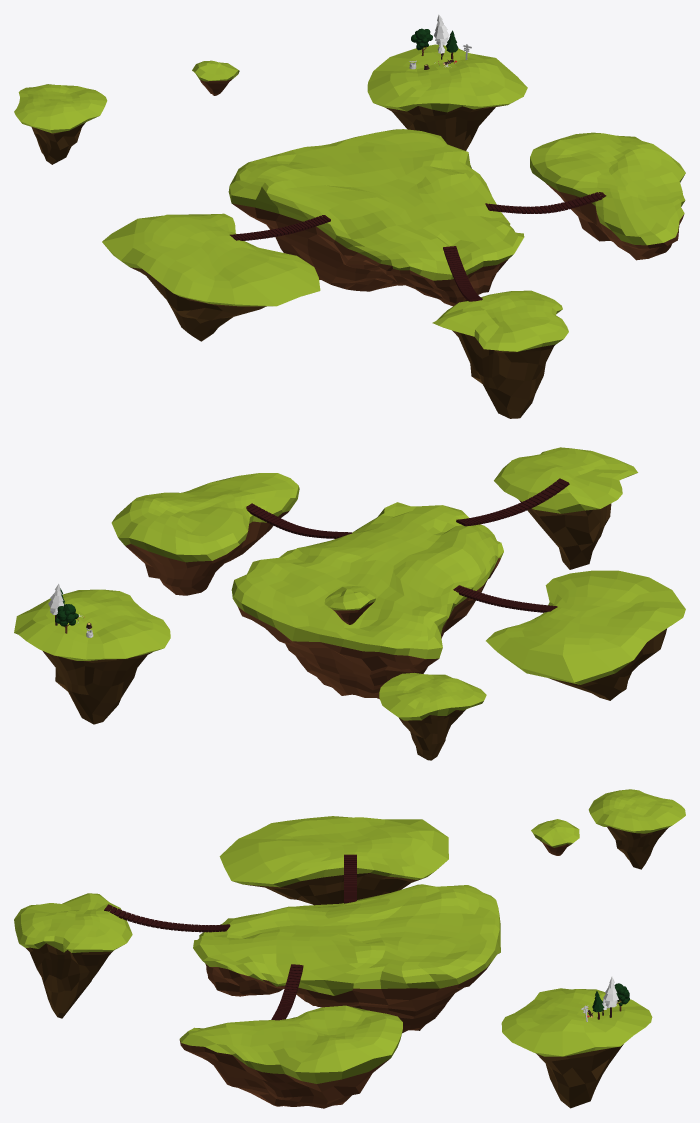
The model's file is reemaIsland.FBX.
3 renders of one model, top to bottom at view 1: azimuth 30°, elevation 25°; view 2: azimuth 150°, elevation 25°; view 3: azimuth 270°, elevation 25°, orthographic. The views are drawn at different scales.
Parts seen in each view (by area): view 1: Island2, Island1, Island3, Box014, Island4, MiniIsland1, Line002, MiniIsland2; view 2: Island2, Island1, Island3, Box014, Island4, MiniIsland1, Line002, MiniIsland2; view 3: Island2, Island3, Island1, Box014, Island4, MiniIsland1, Line002, MiniIsland2.
Part boxes in pixels (x1=…): Island2: x1=228, y1=129, x2=524, y2=306; Island1: x1=102, y1=213, x2=320, y2=341; Island3: x1=530, y1=132, x2=685, y2=260; Box014: x1=367, y1=44, x2=527, y2=150; Island4: x1=432, y1=290, x2=568, y2=418; MiniIsland1: x1=14, y1=84, x2=107, y2=164; Line002: x1=230, y1=192, x2=606, y2=301; MiniIsland2: x1=192, y1=60, x2=239, y2=95; Island2: x1=231, y1=502, x2=503, y2=699; Island1: x1=486, y1=570, x2=685, y2=700; Island3: x1=111, y1=473, x2=299, y2=595; Box014: x1=14, y1=589, x2=170, y2=724; Island4: x1=494, y1=447, x2=637, y2=569; MiniIsland1: x1=379, y1=673, x2=486, y2=760; Line002: x1=246, y1=478, x2=569, y2=612; MiniIsland2: x1=324, y1=586, x2=376, y2=624; Island2: x1=193, y1=884, x2=500, y2=1033; Island3: x1=179, y1=1005, x2=402, y2=1108; Island1: x1=219, y1=816, x2=448, y2=905; Box014: x1=501, y1=988, x2=652, y2=1108; Island4: x1=14, y1=893, x2=132, y2=1018; MiniIsland1: x1=588, y1=789, x2=685, y2=869; Line002: x1=104, y1=854, x2=356, y2=1020; MiniIsland2: x1=531, y1=819, x2=579, y2=855.
Size of the model in its own units: 1596 by 524 by 1844.
